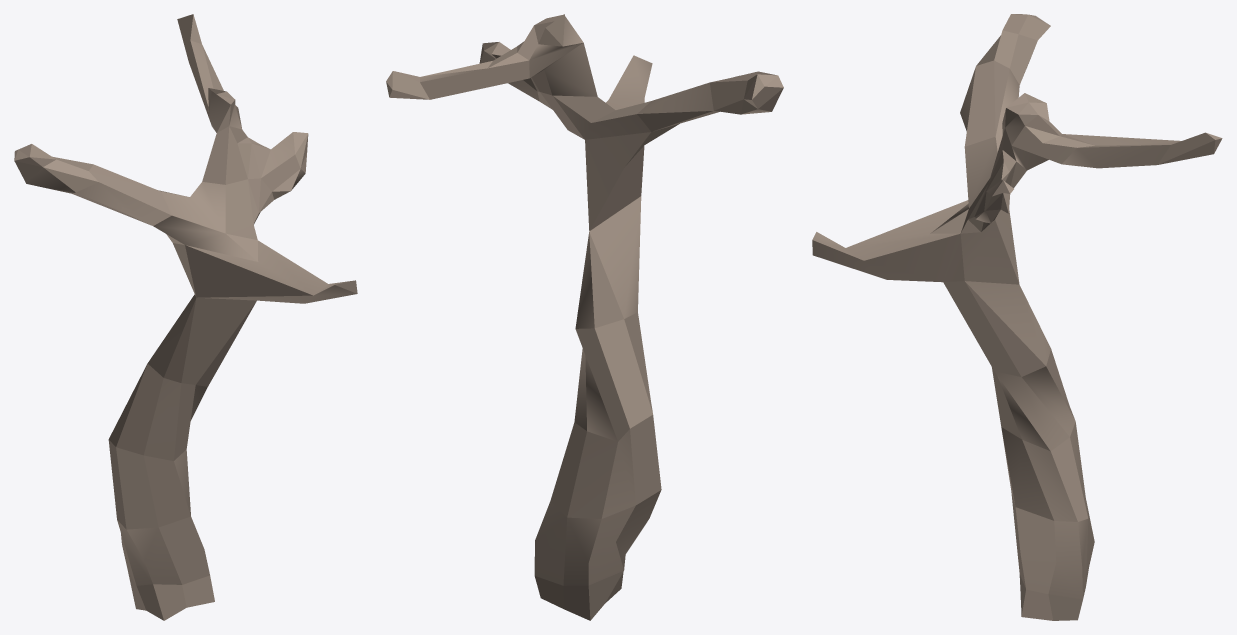
Rendered from deadTree1.fbx.
3 views of the same model, side by side, from view 1: azimuth 30°, elevation 25°; view 2: azimuth 150°, elevation 25°; view 3: azimuth 270°, elevation 25° (orthographic). The views are drawn at different scales.
Visible parts, largest first — view 1: deadTree2; view 2: deadTree2; view 3: deadTree2.
Boxes of the visible parts, bbox=[...] form: deadTree2: bbox=[14, 14, 357, 620]; deadTree2: bbox=[386, 14, 783, 620]; deadTree2: bbox=[812, 14, 1222, 620].
Bounding box in the file's own units: 4.38 × 7.69 × 5.31.
